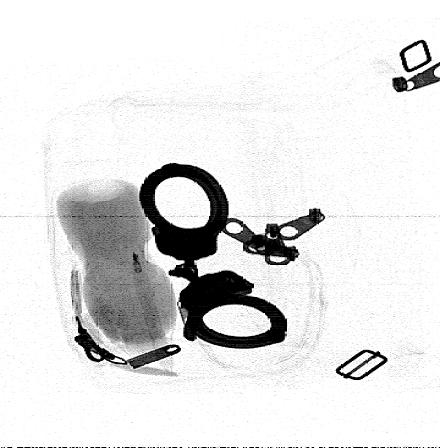HandCuffs: (137, 161, 288, 350)
